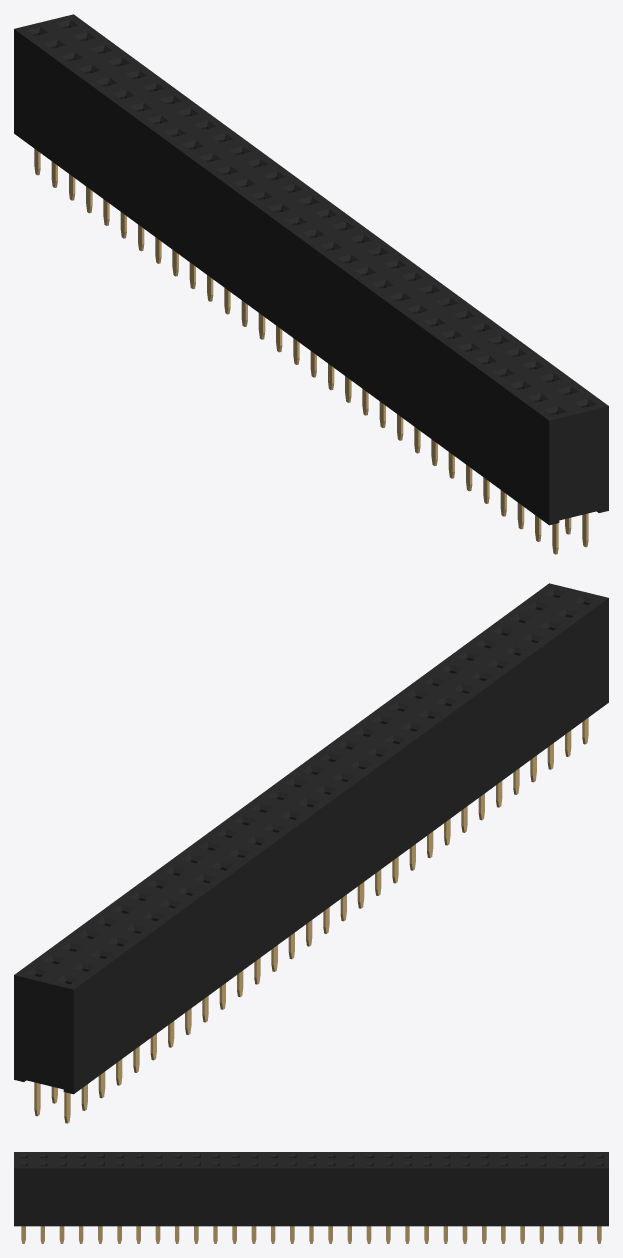
Rendered from kc-pinsocket_2x31_p2.54mm_vertical.glb.
3 views of the same model, one above another, from view 1: azimuth 30°, elevation 25°; view 2: azimuth 150°, elevation 25°; view 3: azimuth 270°, elevation 25° (orthographic). The views are drawn at different scales.
Parts seen in each view (by area): view 1: 0_0_0_0, 0.75_0.5_0.25_0.9; view 2: 0_0_0_0, 0.75_0.5_0.25_0.9; view 3: 0_0_0_0, 0.75_0.5_0.25_0.9.
Boxes of the visible parts, bbox=[...] form: 0_0_0_0: bbox=[14, 14, 608, 525]; 0.75_0.5_0.25_0.9: bbox=[34, 149, 588, 554]; 0_0_0_0: bbox=[14, 583, 608, 1094]; 0.75_0.5_0.25_0.9: bbox=[34, 718, 588, 1123]; 0_0_0_0: bbox=[14, 1152, 608, 1226]; 0.75_0.5_0.25_0.9: bbox=[21, 1226, 601, 1243].
Size of the model in its own units: 0.5075 by 1.16 by 7.87.
